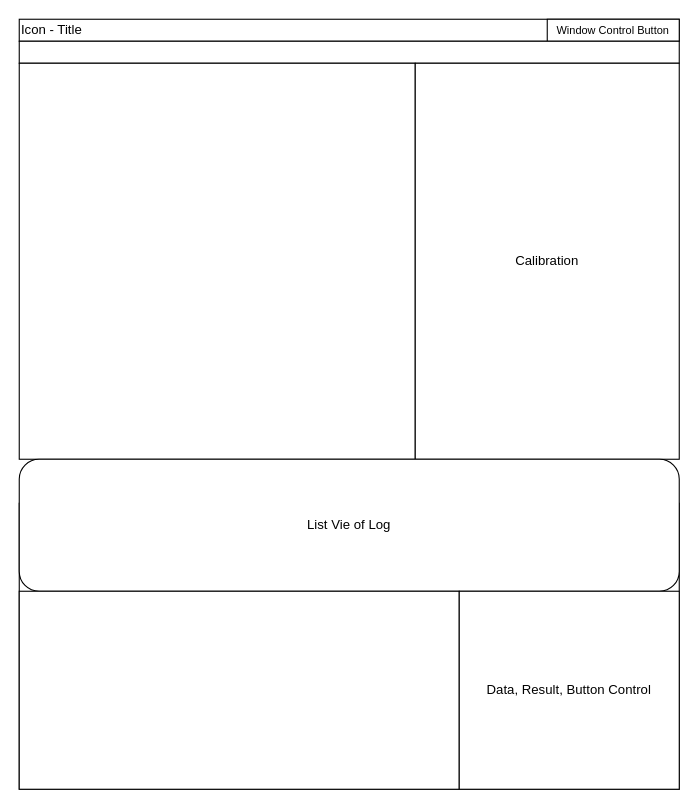
Some shapes in this 699 by 809 pixel diagram are drawn without their labels. Here are the shapes that lost their labels. From the top down, the centre of each, then its label:
pixel 348 51: Menu Bar
pixel 216 260: System Info
pixel 238 689: Graph
